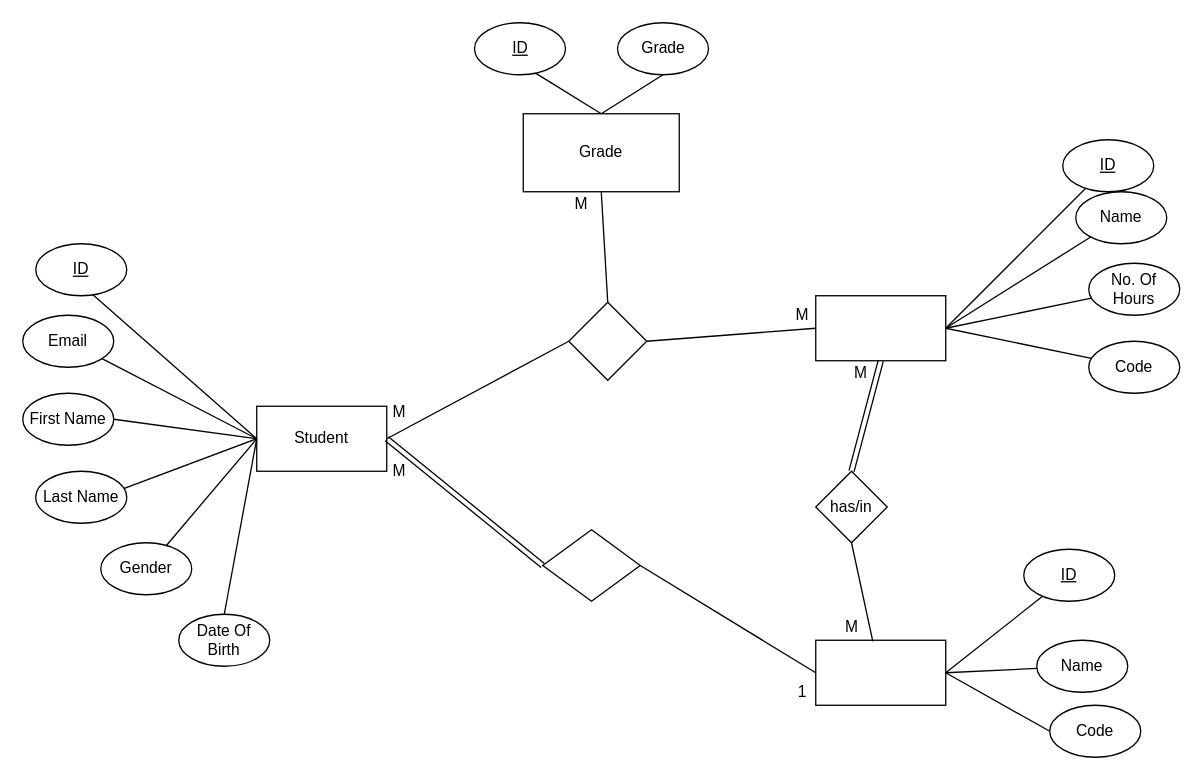
Image size: 1203x780. Some labels were removed from this diagram. Here are the shapes that lost their labels. From the top down, the box of each, then its label:
(567, 301, 647, 380): Register
(814, 294, 946, 361): Course
(541, 528, 640, 601): enrolled in
(814, 639, 946, 705): Department
